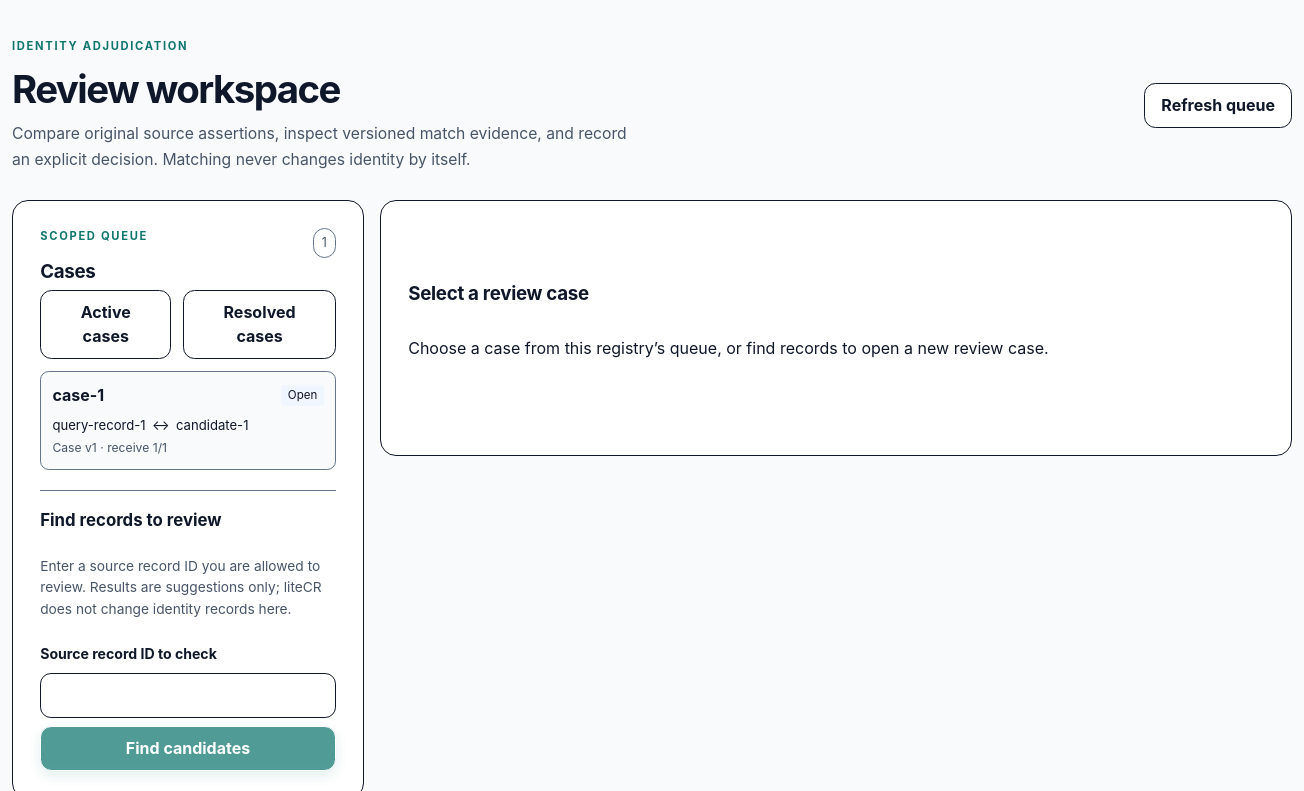
Test: published UI namespace integration › loads the exact saved evidence run for a review case without recomputing matches
The width and height of the screenshot is (1304, 791).
Click the button with class "case-row".
click(188, 421)  # box [40,371,336,470]
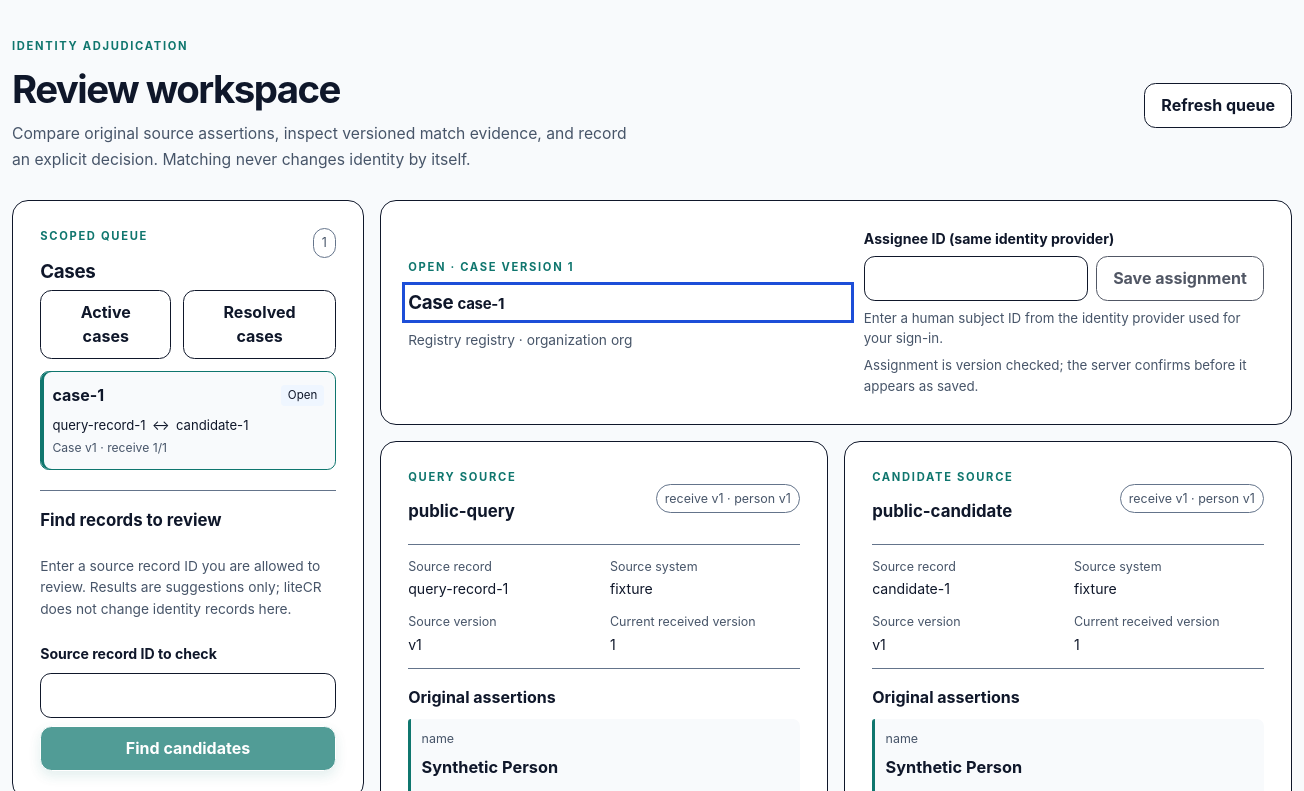
Now the text "Synthetic Person" is shown, box [422,757,558,777]
